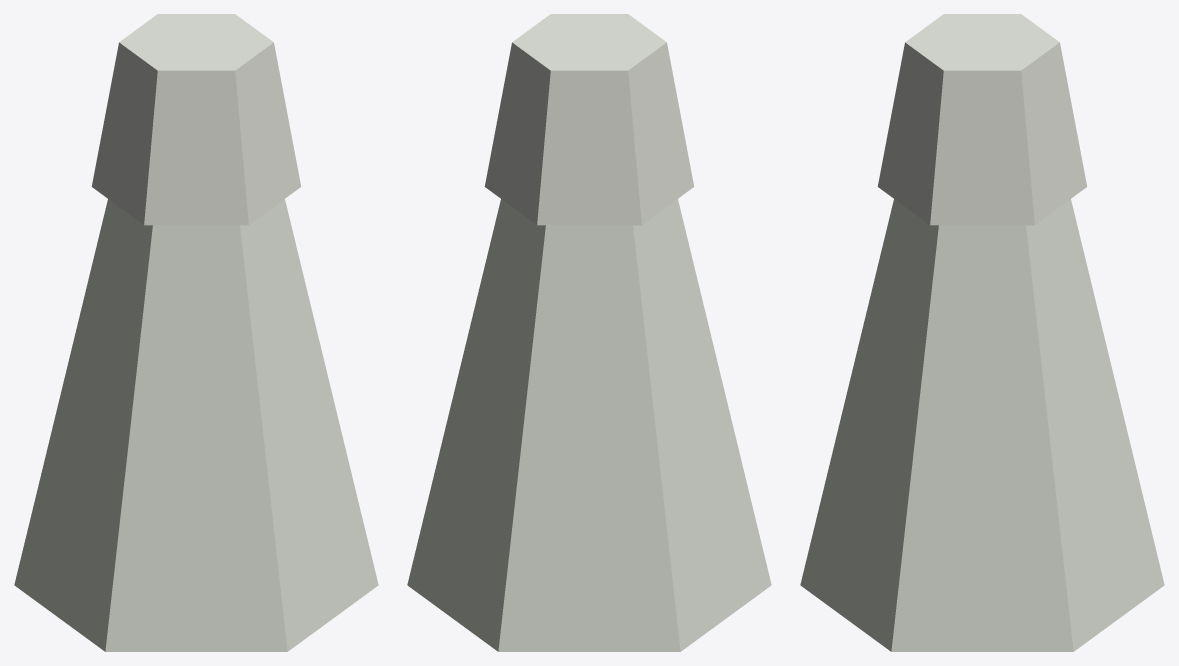
The model's file is prop_snowman.glb.
3 views of the same model, side by side, from view 1: azimuth 30°, elevation 25°; view 2: azimuth 150°, elevation 25°; view 3: azimuth 270°, elevation 25° (orthographic).
Parts seen in each view (by area): view 1: prop_snowman; view 2: prop_snowman; view 3: prop_snowman.
Boxes of the visible parts, x1,y1,x2,y2 form: prop_snowman: [14, 14, 378, 651]; prop_snowman: [407, 14, 771, 651]; prop_snowman: [800, 14, 1164, 651].
Bounding box in the file's own units: 0.6928 × 1.32 × 0.8.
Materials: 1 (1 with a texture image).
